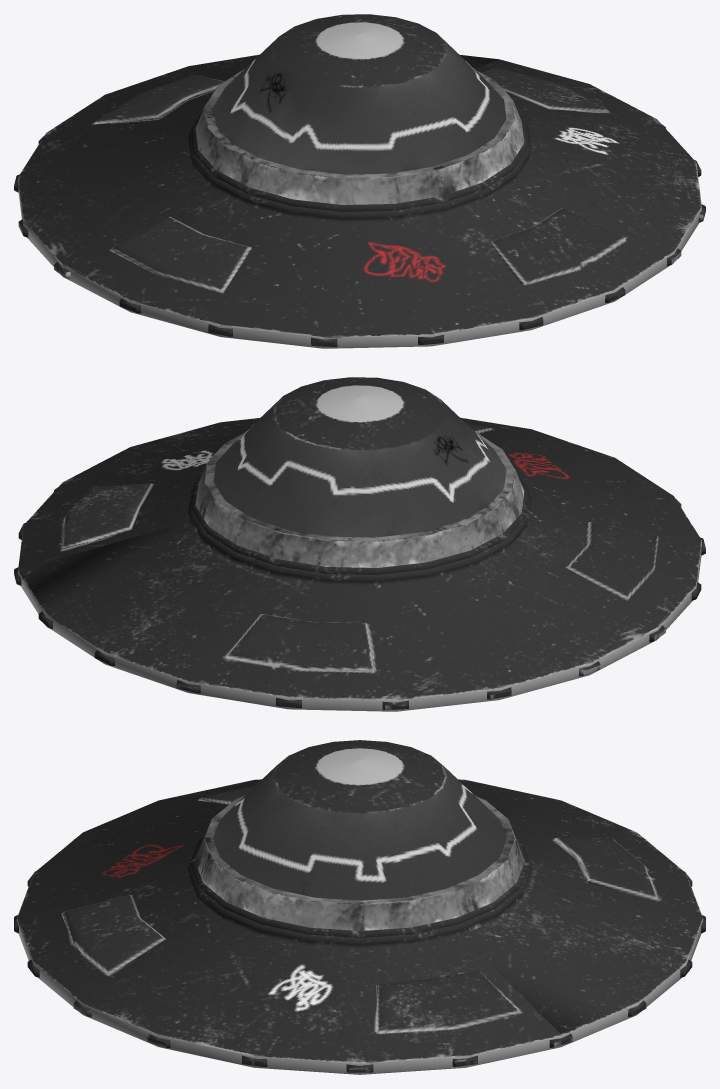
The model's file is ufo.obj.
3 renders of one model, top to bottom at view 1: azimuth 30°, elevation 25°; view 2: azimuth 150°, elevation 25°; view 3: azimuth 270°, elevation 25°, orthographic.
Visible parts, largest first — view 1: Cylinder001; view 2: Cylinder001; view 3: Cylinder001.
Part boxes in pixels (box(x1,y1,x2,y2)): Cylinder001: box(14, 14, 705, 348); Cylinder001: box(14, 377, 705, 711); Cylinder001: box(14, 740, 705, 1074).
Size of the model in its own units: 403 by 158 by 403.
Materials: 1 (1 with a texture image).
